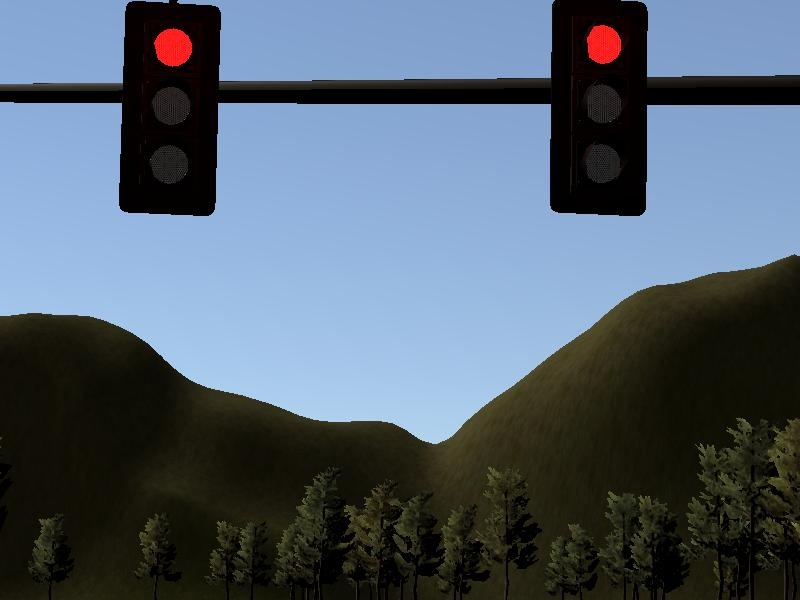red: (117, 5, 226, 219), (549, 3, 651, 219)
